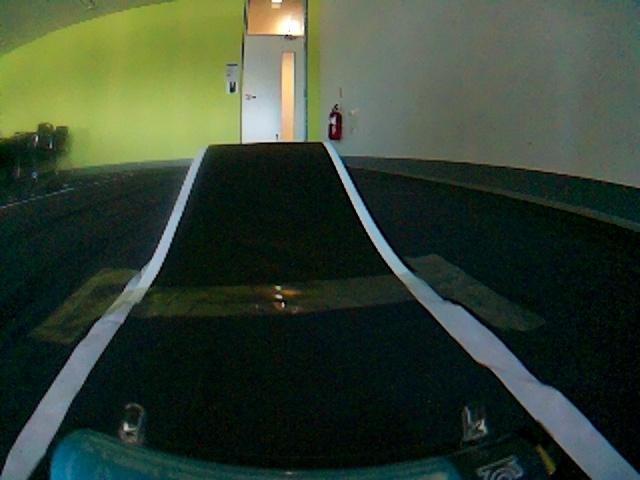go: (7, 302, 629, 480)
hill_up: (76, 139, 471, 296)
